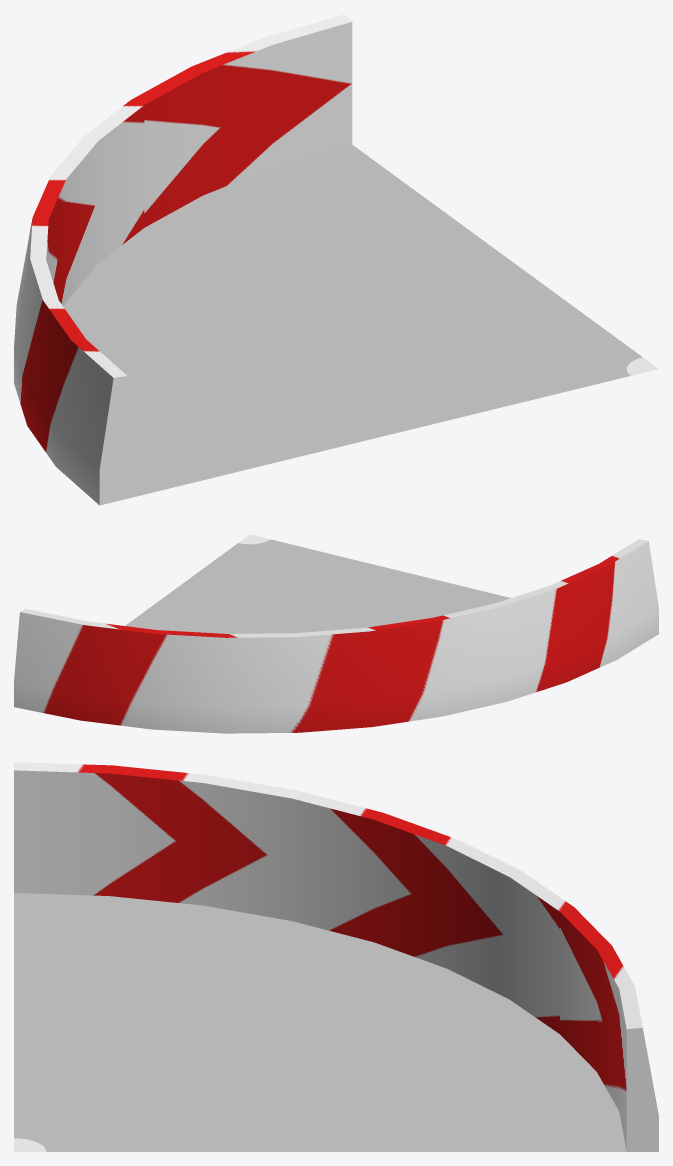
The model's file is RoadBlock_SmallCurve_new.fbx.
3 renders of one model, top to bottom at view 1: azimuth 30°, elevation 25°; view 2: azimuth 150°, elevation 25°; view 3: azimuth 270°, elevation 25°, orthographic. The views are drawn at different scales.
Visible parts, largest first — view 1: RoadCurve; view 2: RoadCurve; view 3: RoadCurve.
Boxes of the visible parts, bbox=[...] form: RoadCurve: bbox=[14, 14, 658, 505]; RoadCurve: bbox=[14, 534, 658, 733]; RoadCurve: bbox=[14, 762, 658, 1151].
Bounding box in the file's own units: 200 × 42.43 × 200.
